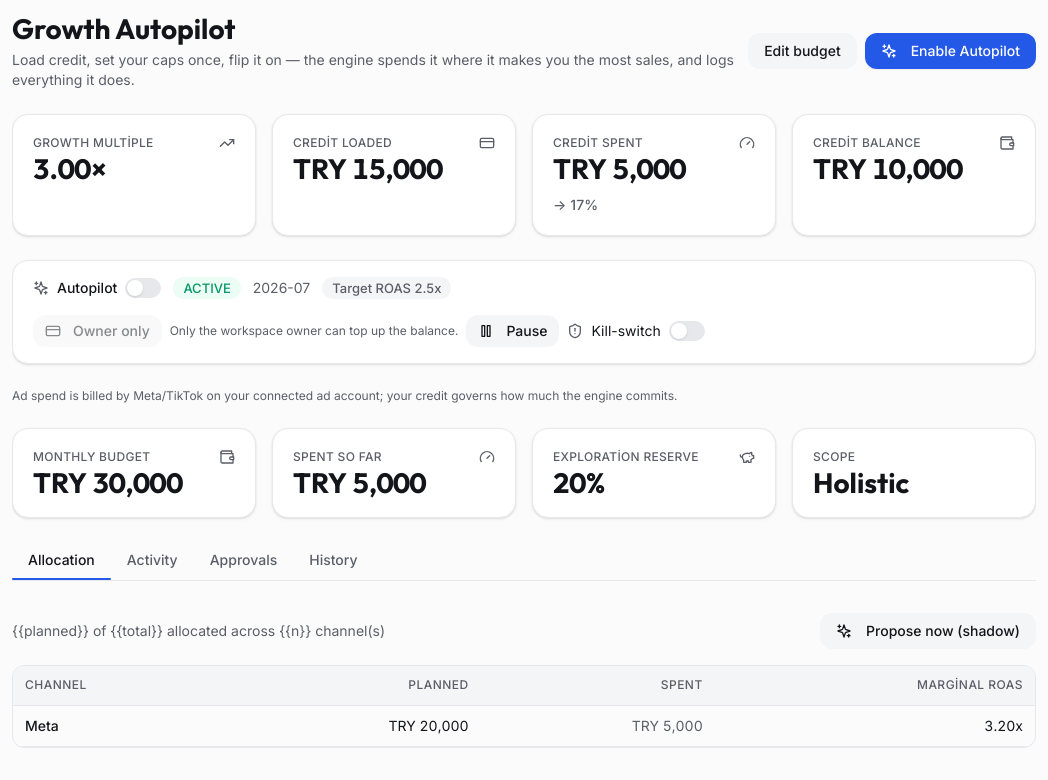
Test case: BudgetAutopilotPage › renders the Activity Log feed
Click the tab "Activity" at (152, 561), box [111, 542, 194, 580]
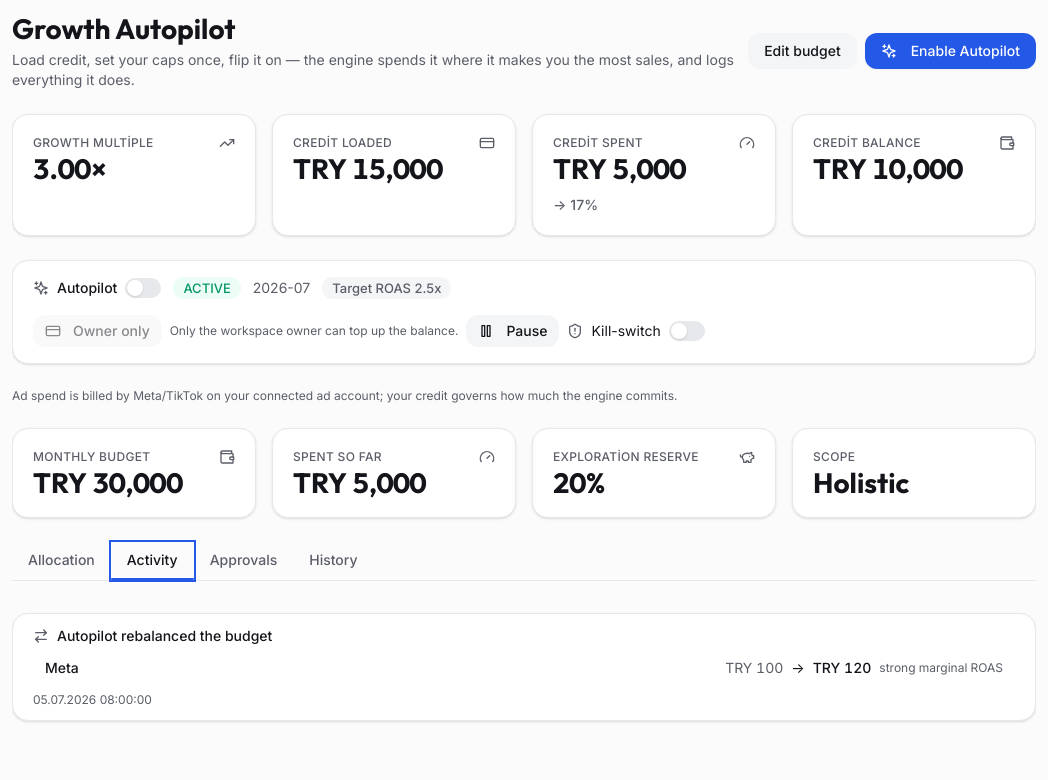
expect the text "Autopilot rebalanced the budget" is shown: met, box [57, 626, 272, 646]
expect the text "strong marginal ROAS" is shown: met, box [879, 660, 1003, 676]
